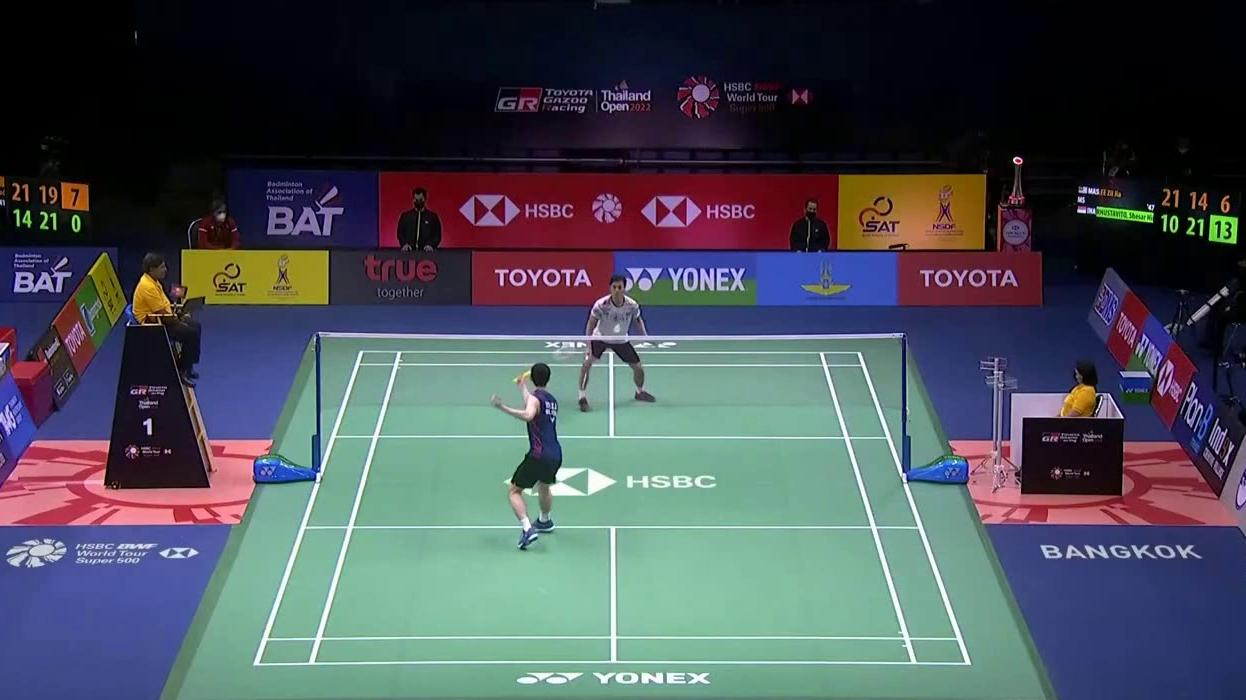racket: (511, 344, 576, 385)
shuttle: (611, 321, 624, 336)
